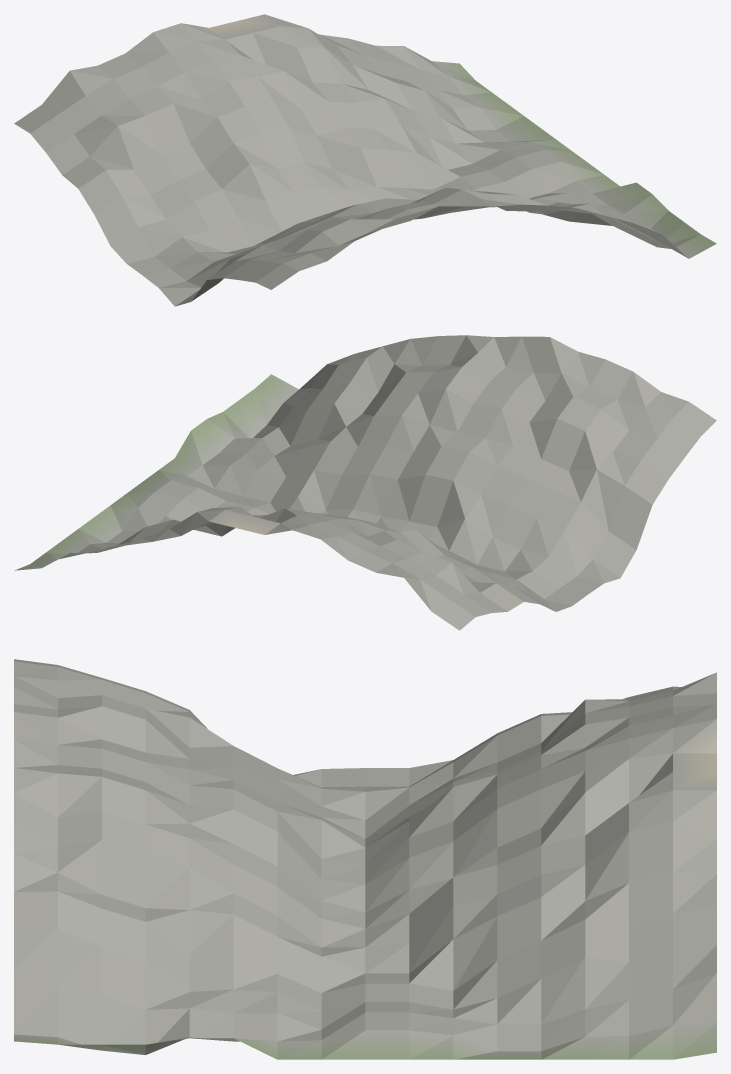
The picture shows the model from 3 angles, top to bottom: view 1: azimuth 30°, elevation 25°; view 2: azimuth 150°, elevation 25°; view 3: azimuth 270°, elevation 25°; orthographic projection. The views are drawn at different scales.
Size of the model in its own units: 32 by 8.93 by 32.
